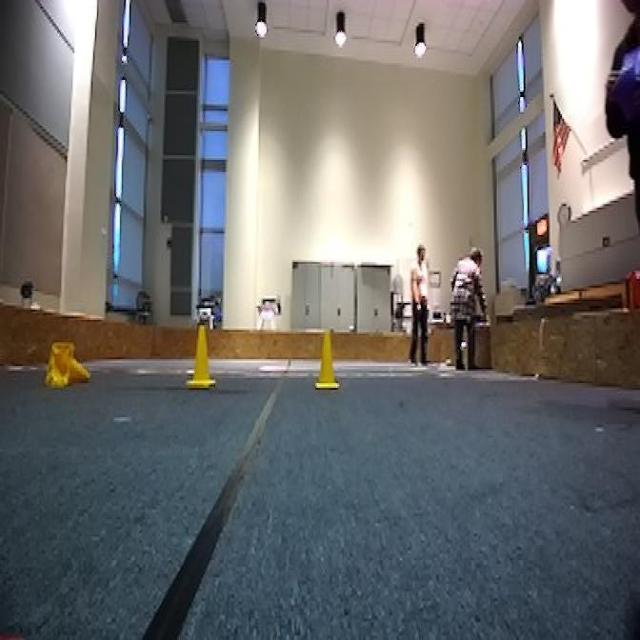frc_cone: (45, 344, 91, 386), (186, 327, 216, 388), (312, 334, 343, 389)
frc_cube: (605, 49, 640, 140)
